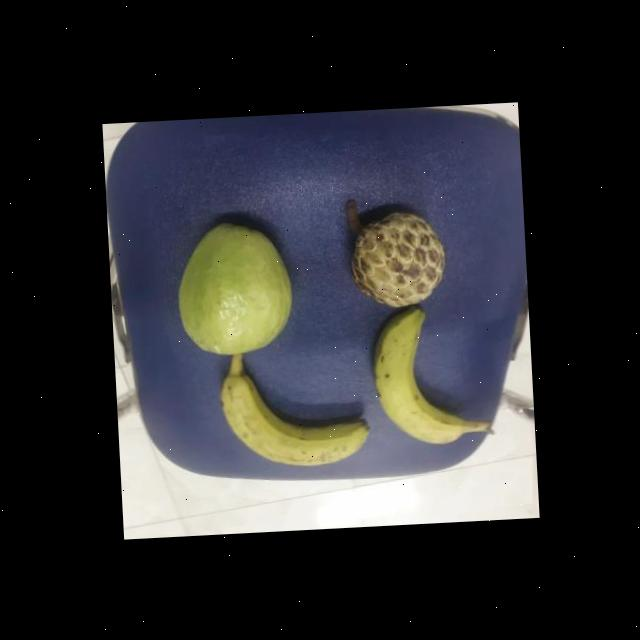Sakya fruit: (340, 205, 450, 310)
banana: (216, 364, 372, 478), (362, 303, 467, 453)
guava: (171, 218, 297, 356)
